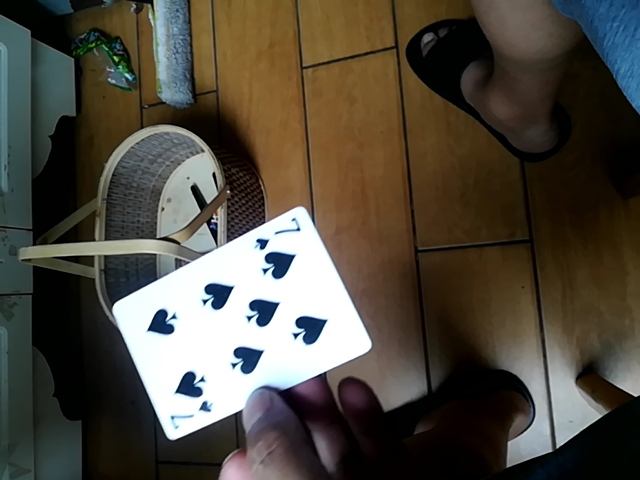ht 7: (113, 205, 372, 443)
